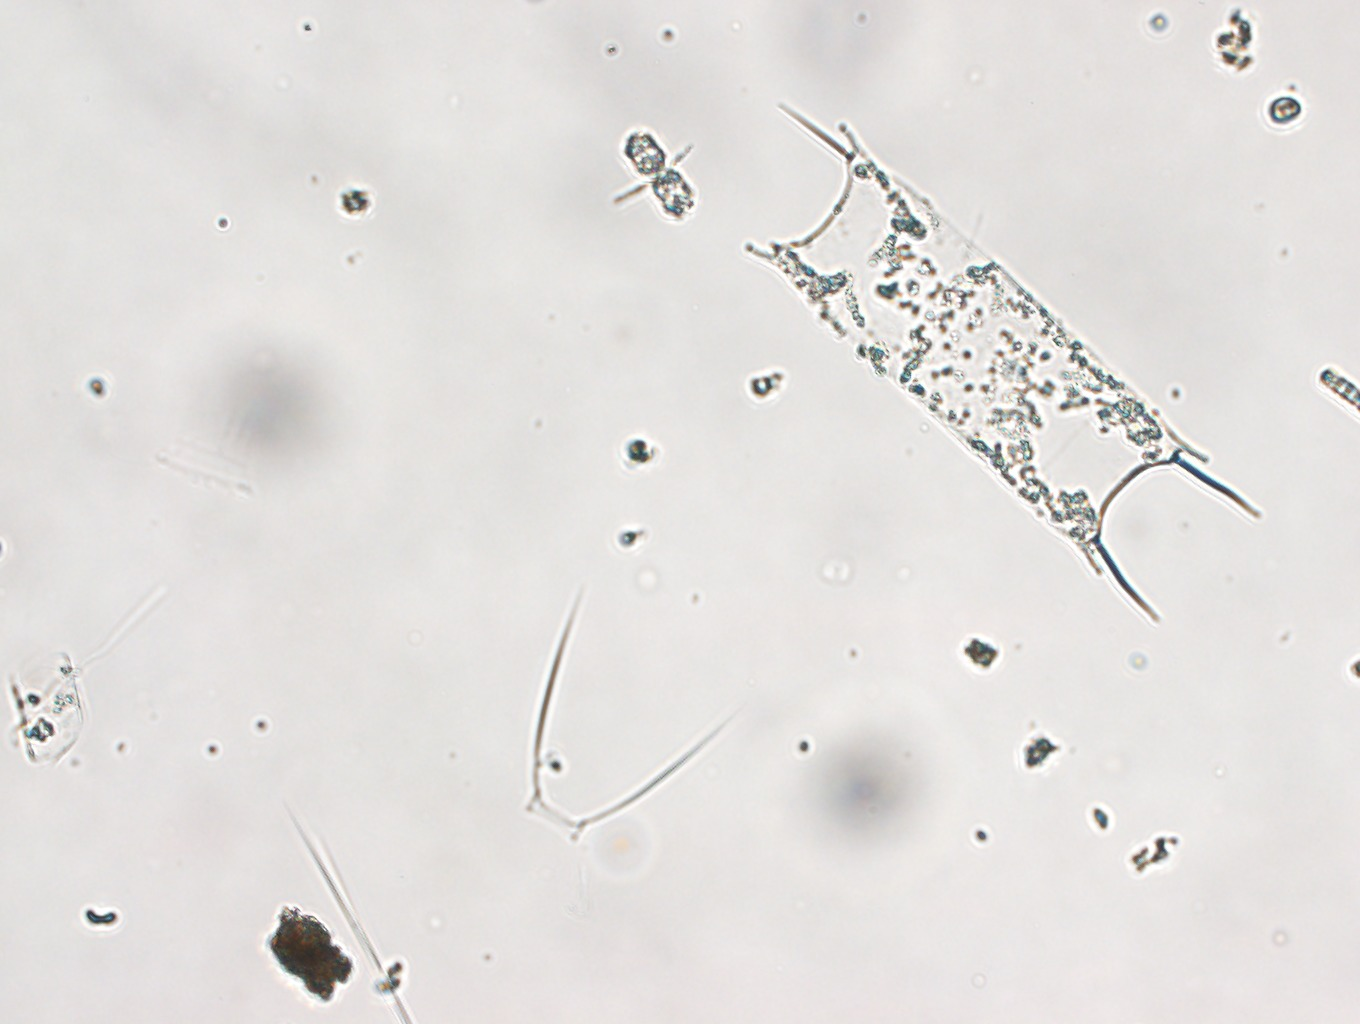biddulphia: (725, 93, 1261, 637)
chaetoceros: (516, 577, 739, 848)
